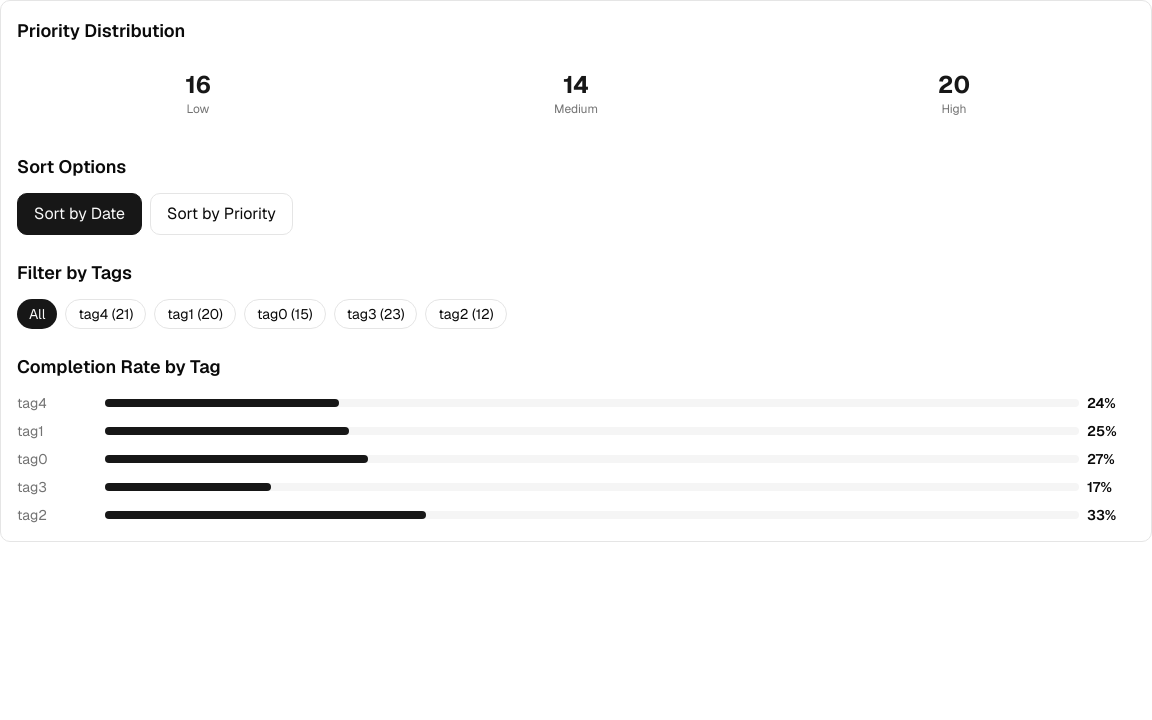
Test: TodoAnalytics › should allow sorting by priority
The image size is (1152, 720).
Click the button "Sort by Priority".
click(221, 214)  # box x1=150 y1=193 x2=293 y2=235
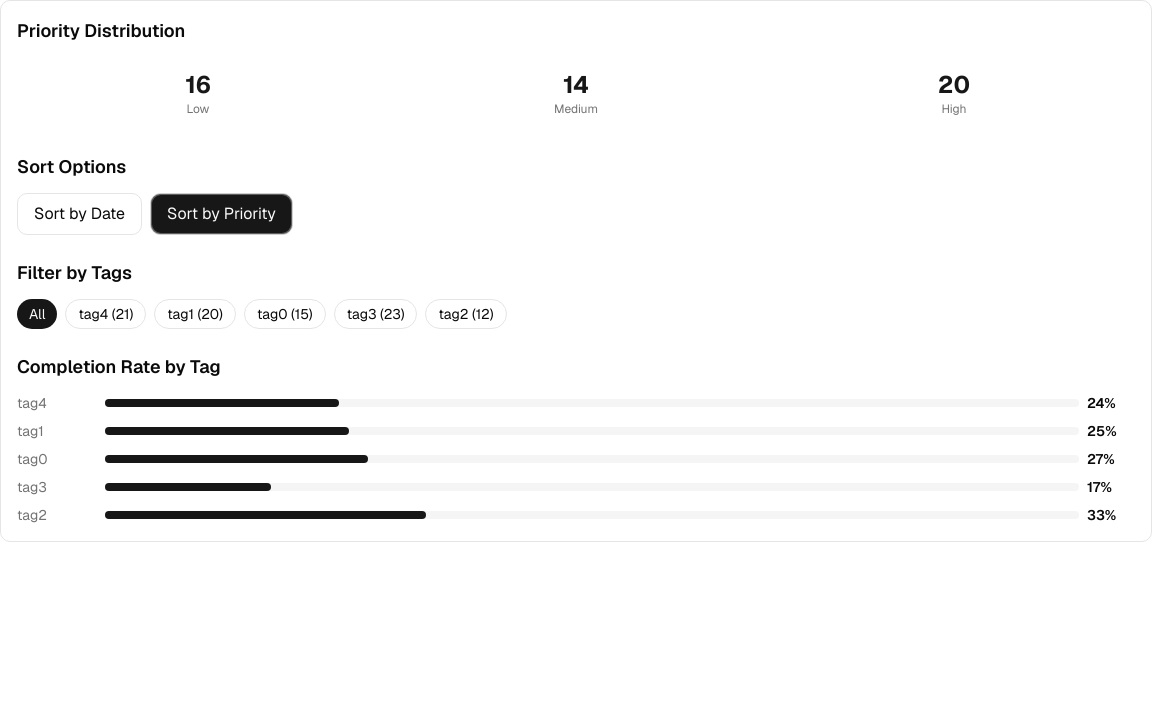
Result: the button "Sort by Priority" has class "bg-primary" at x1=150 y1=193 x2=293 y2=235
